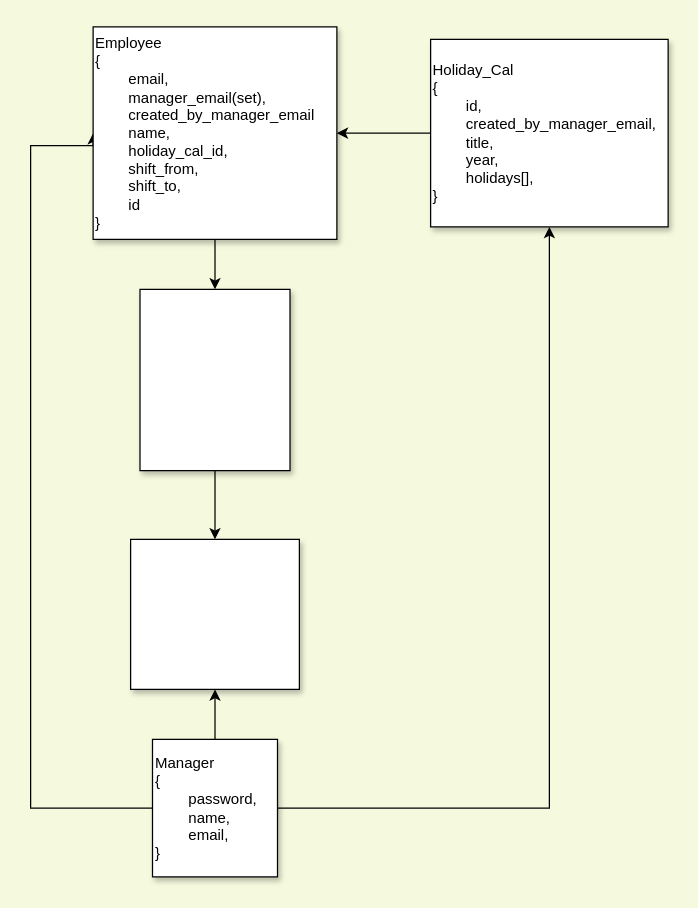
Some shapes in this 698 by 908 pixel diagram are drawn without their labels. The shapes that lost their labels are listed below. From the top down, each one's centre as x and y in pixels, then its label:
[216,381]: Task { id, project_id, title, desc, hrs_alloted, employ_id(arr), }
[215,615]: Project { id, name, manager_email, hrs_alloted, TASKS_LIST(arr), }
